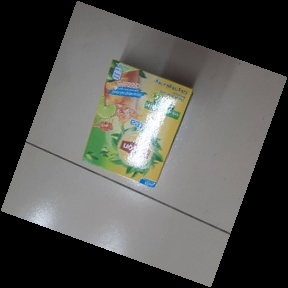LipTon: (80, 59, 193, 189)
